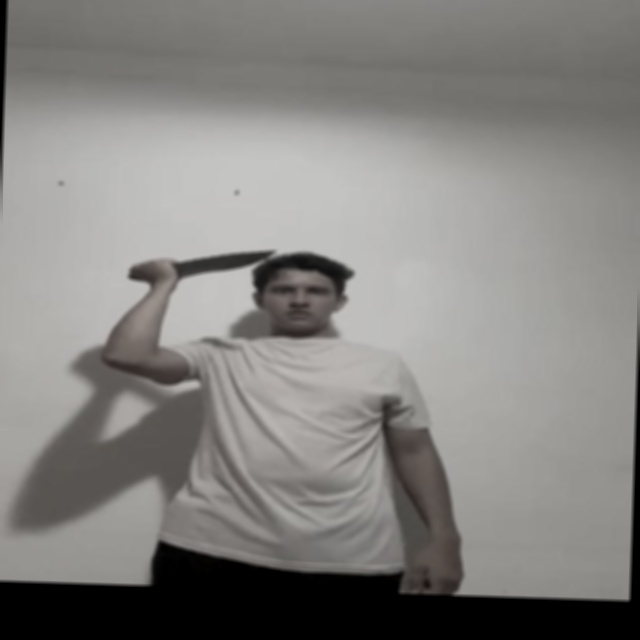Sharp-Object: (172, 246, 276, 277)
